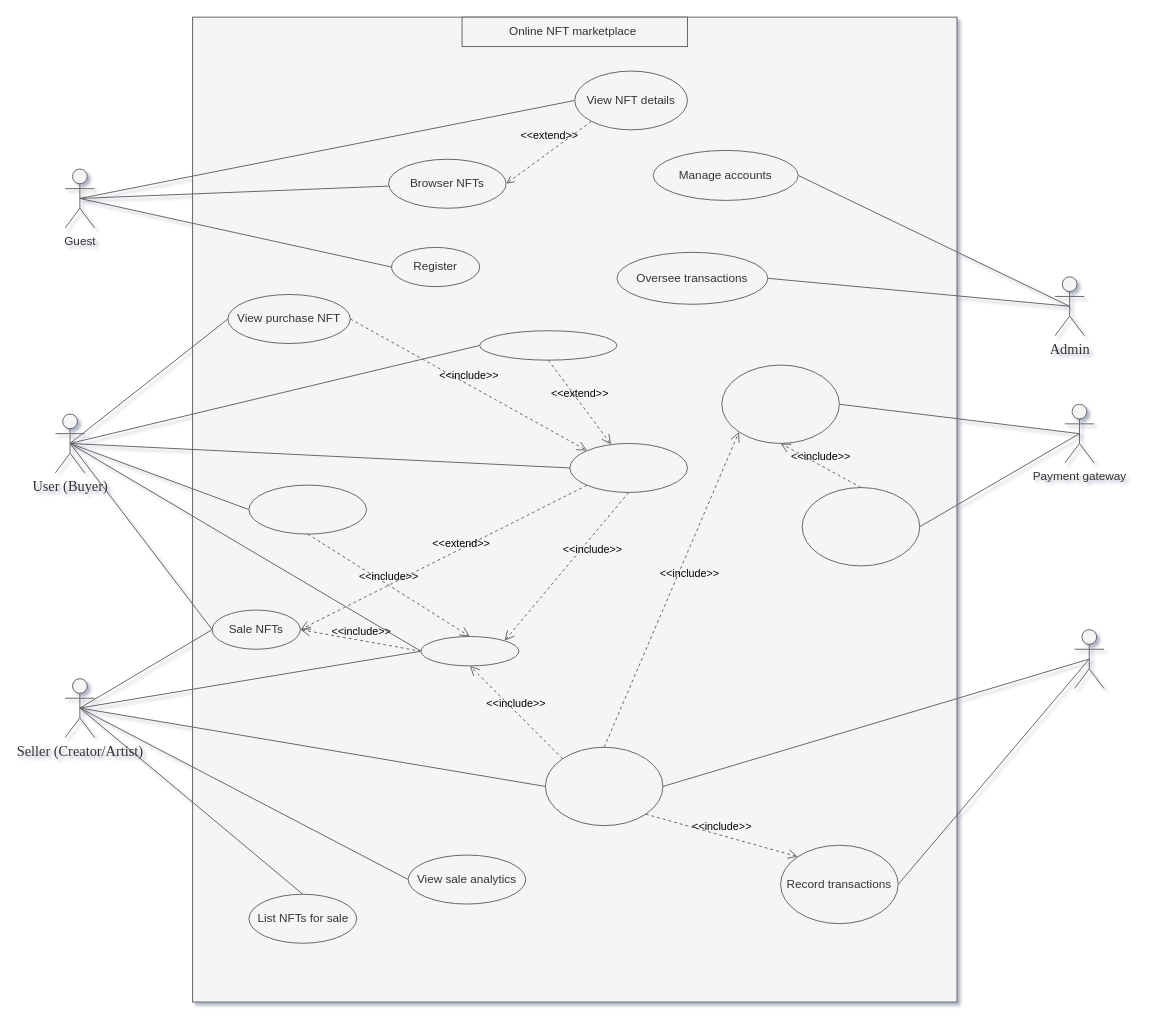
Image size: 1162x1025. Some labels were removed from this diagram. The box of each missing label's shape, as (x1, y1, x2, y2) in pixels:
Blockchain network: (1074, 629, 1104, 688)
Confirm transactions: (801, 487, 920, 566)
Leave reviews: (479, 330, 617, 360)
Log in: (420, 636, 519, 666)
Manage account: (248, 484, 367, 534)
Mint NFTs: (544, 746, 663, 826)
process payments: (721, 364, 839, 443)
Purchase NFTs: (569, 442, 687, 492)
